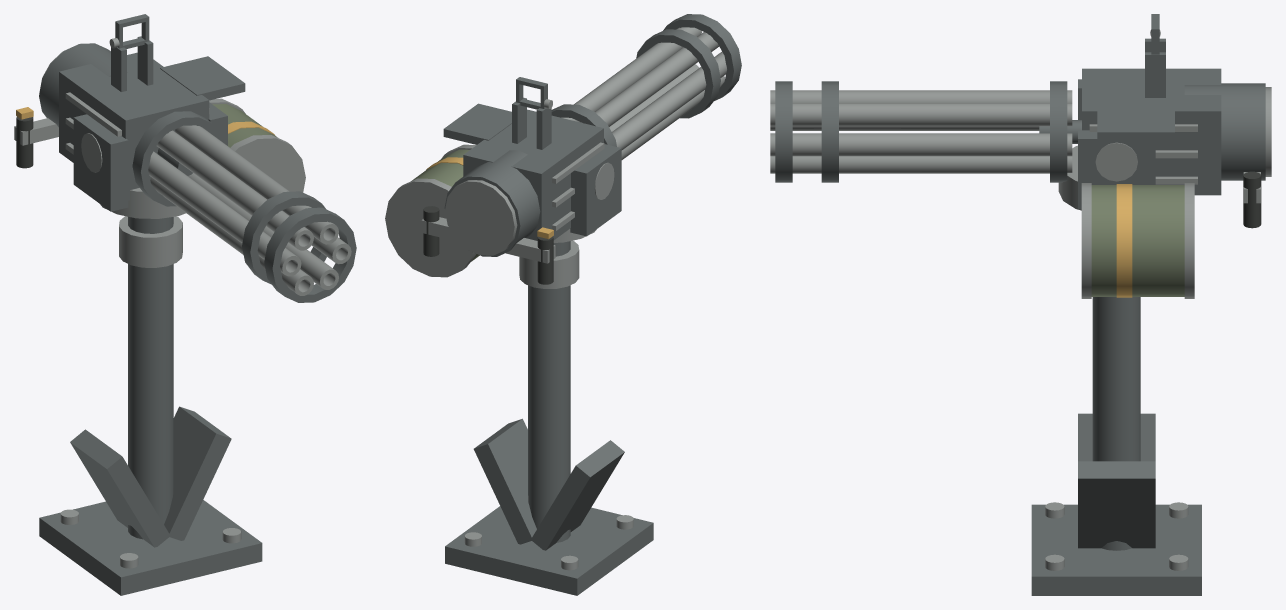
File: mounted_minigun.glb
The picture shows the model from 3 angles, left to right: view 1: azimuth 30°, elevation 25°; view 2: azimuth 150°, elevation 25°; view 3: azimuth 270°, elevation 25°; orthographic projection. The views are drawn at different scales.
Visible parts, largest first — view 1: pedestal, footplate, pedestal_gusset (×2), rotor_collar (×3), receiver, pitch_cradle (×2), barrel_3, barrel_2, barrel_1, drum_rim_front, pedestal_collar, motor (+11 smaller); view 2: footplate, pedestal, pedestal_gusset (×2), receiver, drum_rim_rear, rotor_collar (×3), motor_cap, pitch_cradle, motor, barrel_2, barrel_3, barrel_1 (+10 smaller); view 3: footplate, receiver, ammo_drum, pedestal, pedestal_gusset (×2), barrel_0, barrel_1, rotor_collar (×3), motor, barrel_5, barrel_2, feed_lid (+9 smaller).
Part boxes in pixels (x1,y1,x2,y2): pedestal: [128, 216, 173, 539]; footplate: [39, 500, 262, 595]; pedestal_gusset (×2): [70, 406, 231, 547]; rotor_collar (×3): [132, 111, 356, 302]; receiver: [59, 52, 209, 200]; pitch_cradle (×2): [73, 102, 227, 211]; barrel_3: [148, 151, 301, 276]; barrel_2: [156, 130, 313, 250]; barrel_1: [175, 125, 338, 244]; drum_rim_front: [230, 135, 305, 192]; pedestal_collar: [119, 216, 182, 267]; motor: [39, 43, 127, 127]; footplate: [445, 506, 653, 595]; pedestal: [528, 241, 570, 542]; pedestal_gusset (×2): [473, 418, 624, 550]; receiver: [463, 109, 603, 240]; drum_rim_rear: [385, 178, 476, 277]; rotor_collar (×3): [551, 14, 741, 146]; motor_cap: [445, 180, 517, 255]; pitch_cradle: [570, 144, 621, 236]; motor: [444, 150, 540, 256]; barrel_2: [580, 32, 719, 126]; barrel_3: [612, 52, 726, 150]; barrel_1: [561, 27, 701, 122]; footplate: [1031, 504, 1201, 595]; receiver: [1082, 68, 1221, 195]; ammo_drum: [1091, 185, 1184, 296]; pedestal: [1092, 297, 1140, 550]; pedestal_gusset (×2): [1078, 413, 1155, 548]; barrel_0: [770, 133, 1072, 156]; barrel_1: [770, 103, 1072, 126]; rotor_collar (×3): [775, 81, 1067, 182]; motor: [1184, 83, 1265, 180]; barrel_5: [770, 156, 1072, 173]; barrel_2: [770, 90, 1072, 102]; feed_lid: [1097, 108, 1174, 140].
Bounding box in the file's own units: 0.65 × 1.53 × 1.29.
